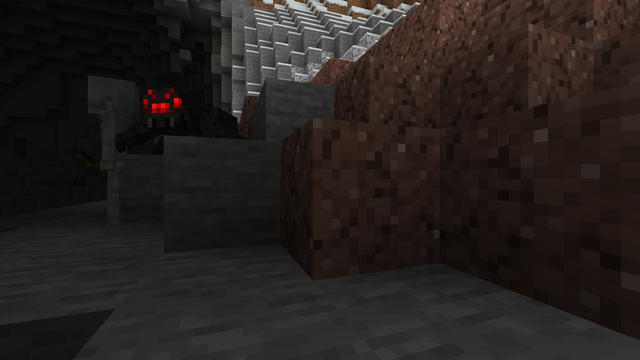araignees: (122, 75, 240, 155)
squelettes: (78, 74, 142, 227)
